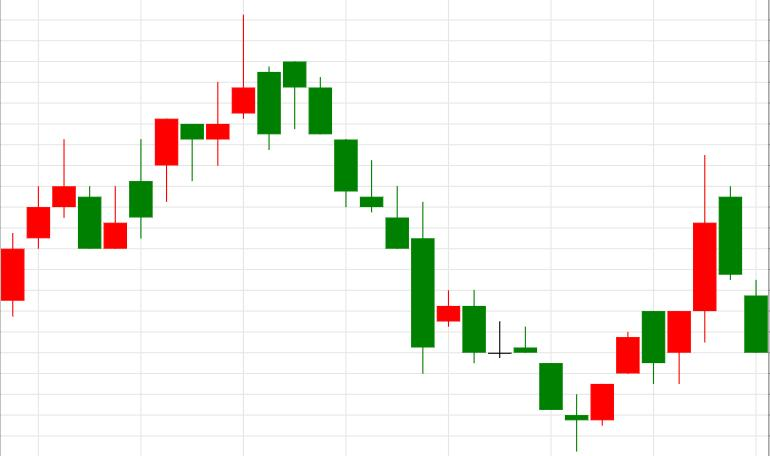morning_star_rise: (284, 62, 613, 453)
shooting_star_fall: (104, 15, 255, 249)
